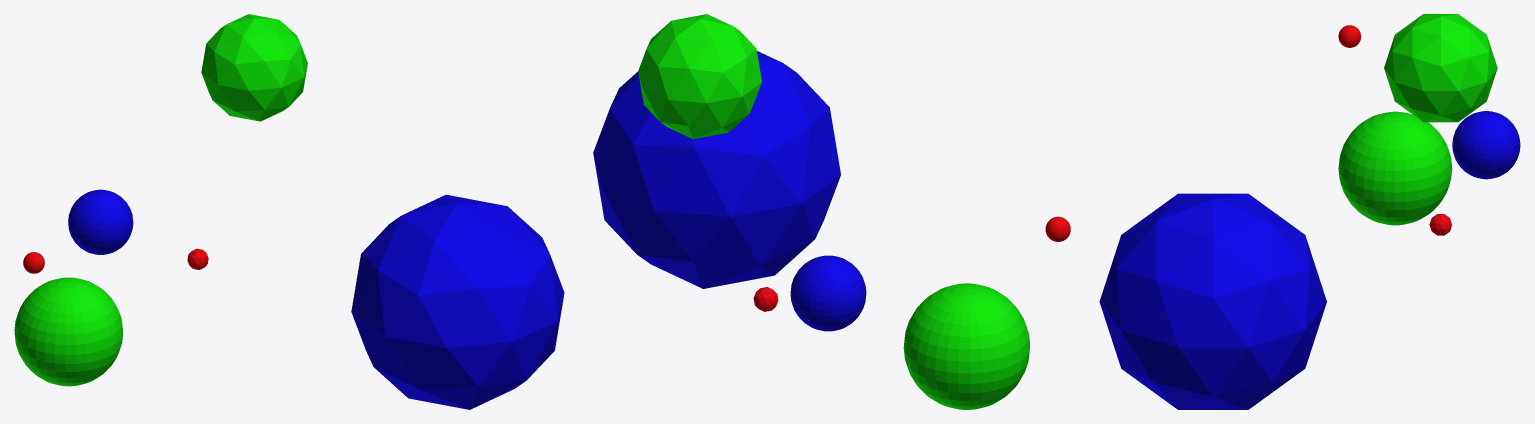
Rendered from spheres.gltf.
The picture shows the model from 3 angles, left to right: view 1: azimuth 30°, elevation 25°; view 2: azimuth 150°, elevation 25°; view 3: azimuth 270°, elevation 25°; orthographic projection. The views are drawn at different scales.
Parts seen in each view (by area): view 1: Icosphere.002, Sphere.001, Icosphere.001, Sphere.002; view 2: Icosphere.002, Sphere.001, Icosphere.001, Sphere.002, Sphere, Icosphere; view 3: Icosphere.002, Sphere.001, Icosphere.001, Sphere.002, Sphere, Icosphere.
Boxes of the visible parts, left/top/right/bottom form: Icosphere.002: left=351, top=194, right=564, bottom=409; Sphere.001: left=14, top=277, right=123, bottom=386; Icosphere.001: left=201, top=14, right=307, bottom=121; Sphere.002: left=68, top=189, right=133, bottom=254; Icosphere.002: left=593, top=51, right=840, bottom=288; Sphere.001: left=903, top=283, right=1030, bottom=409; Icosphere.001: left=638, top=14, right=761, bottom=139; Sphere.002: left=790, top=255, right=866, bottom=331; Sphere: left=1045, top=216, right=1070, bottom=241; Icosphere: left=753, top=287, right=778, bottom=311; Icosphere.002: left=1099, top=193, right=1326, bottom=409; Sphere.001: left=1338, top=111, right=1452, bottom=225; Icosphere.001: left=1384, top=14, right=1497, bottom=122; Sphere.002: left=1452, top=111, right=1520, bottom=179; Sphere: left=1338, top=25, right=1361, bottom=47; Icosphere: left=1429, top=214, right=1451, bottom=235.
Size of the model in its own units: 24.26 by 16.5 by 18.5.
